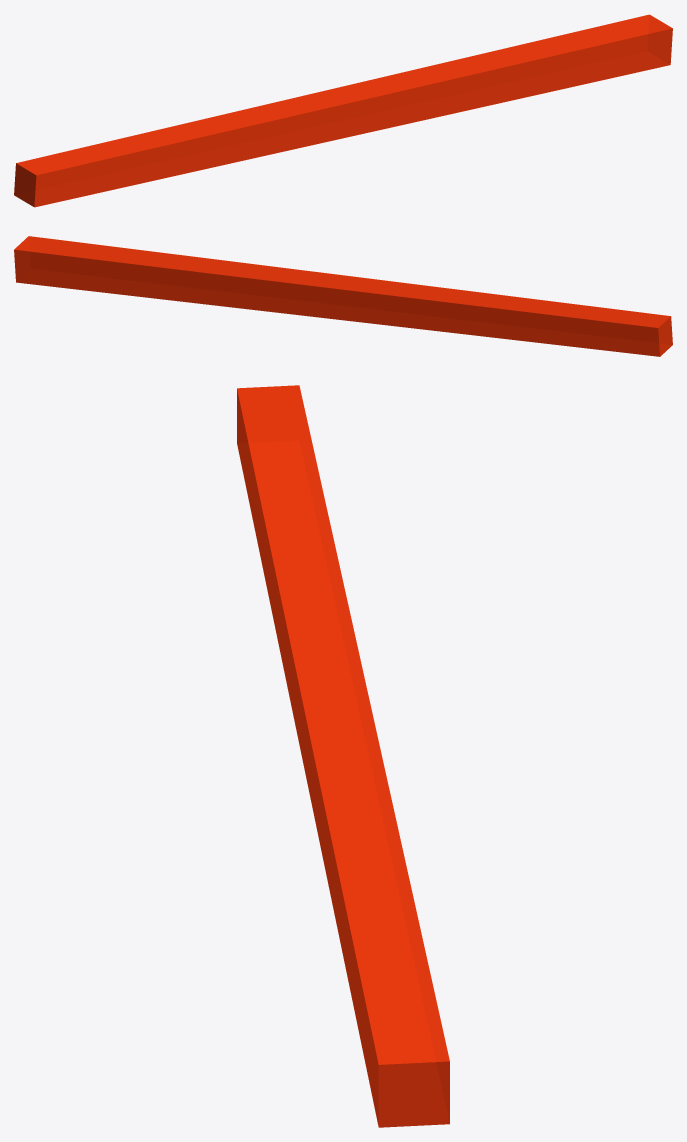
The model's file is Event_421278790_EErechit_60.fbx.
The picture shows the model from 3 angles, top to bottom: view 1: azimuth 30°, elevation 25°; view 2: azimuth 150°, elevation 25°; view 3: azimuth 270°, elevation 25°; orthographic projection. The views are drawn at different scales.
Parts seen in each view (by area): view 1: Model; view 2: Model; view 3: Model.
Part boxes in pixels (x1,y1,x2,y2): Model: [14, 14, 672, 207]; Model: [14, 236, 672, 356]; Model: [237, 385, 449, 1127].
Bounding box in the file's own units: 1.63 × 0.1904 × 0.2462.
